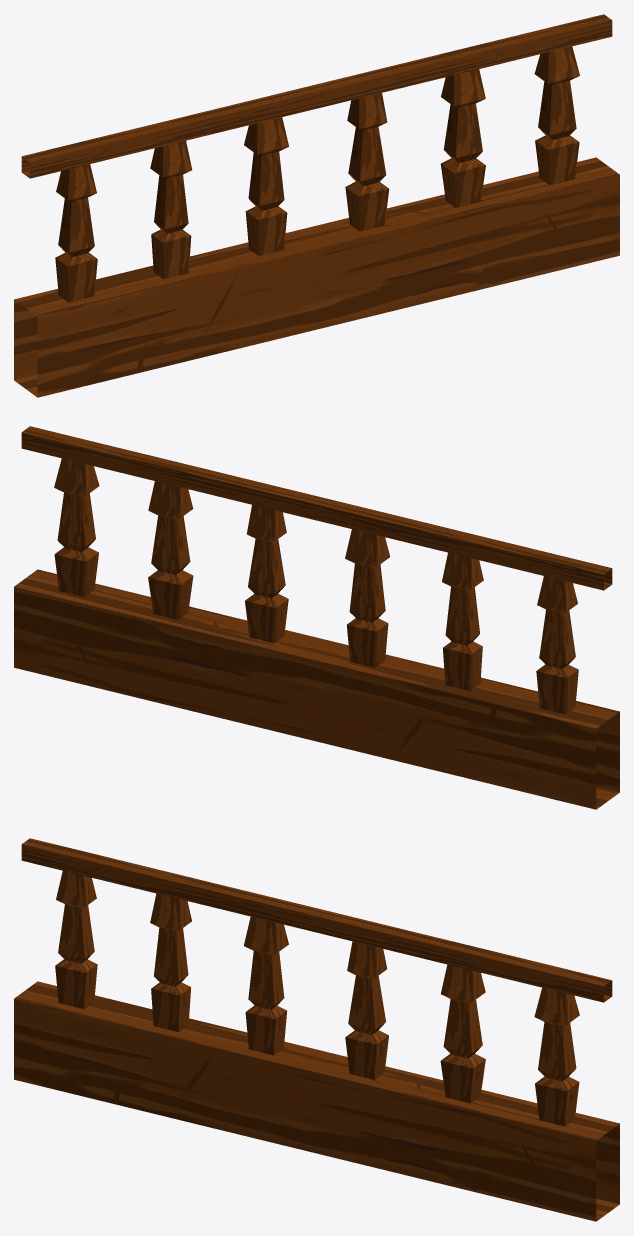
File: MOD_Railing_02_straight.fbx
The picture shows the model from 3 angles, top to bottom: view 1: azimuth 30°, elevation 25°; view 2: azimuth 150°, elevation 25°; view 3: azimuth 330°, elevation 25°; orthographic projection.
Parts seen in each view (by area): view 1: MOD_Railing_02_straight; view 2: MOD_Railing_02_straight; view 3: MOD_Railing_02_straight.
Boxes of the visible parts, bbox=[...] form: MOD_Railing_02_straight: bbox=[14, 14, 619, 397]; MOD_Railing_02_straight: bbox=[14, 426, 619, 809]; MOD_Railing_02_straight: bbox=[14, 838, 619, 1221].
Bounding box in the file's own units: 400 × 151 × 28.15.
